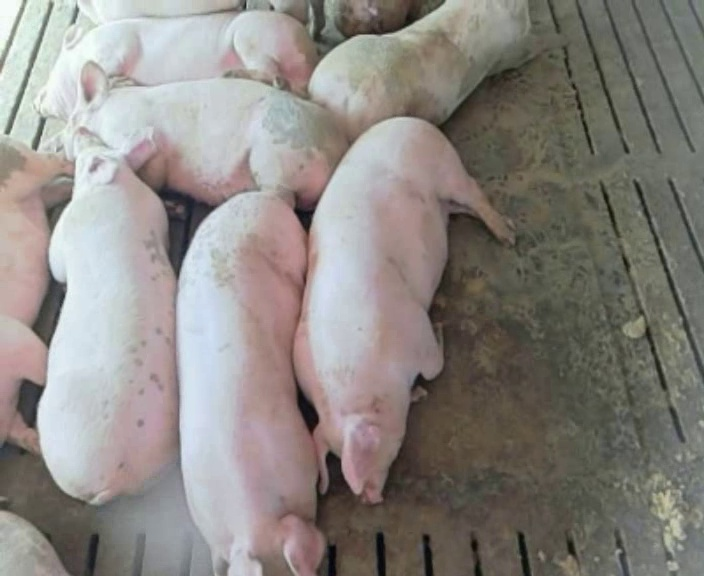pig: (294, 117, 513, 502), (177, 192, 324, 574), (39, 127, 177, 504), (309, 2, 564, 139), (35, 11, 317, 118)
